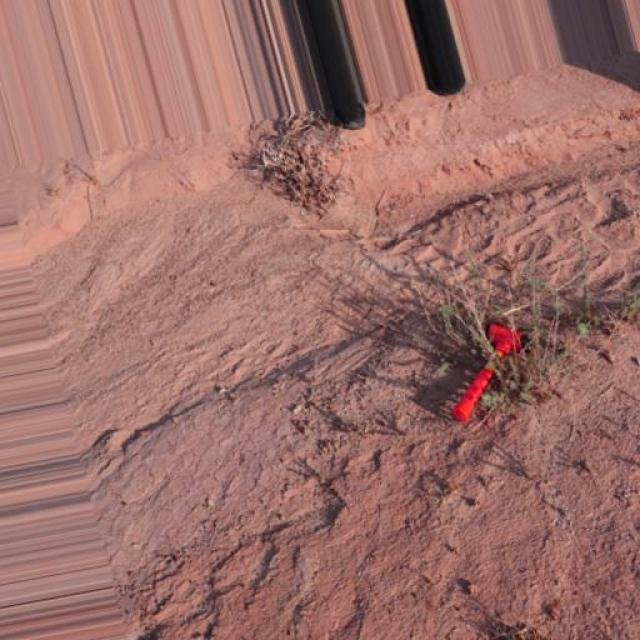mallet: (452, 322, 526, 422)
